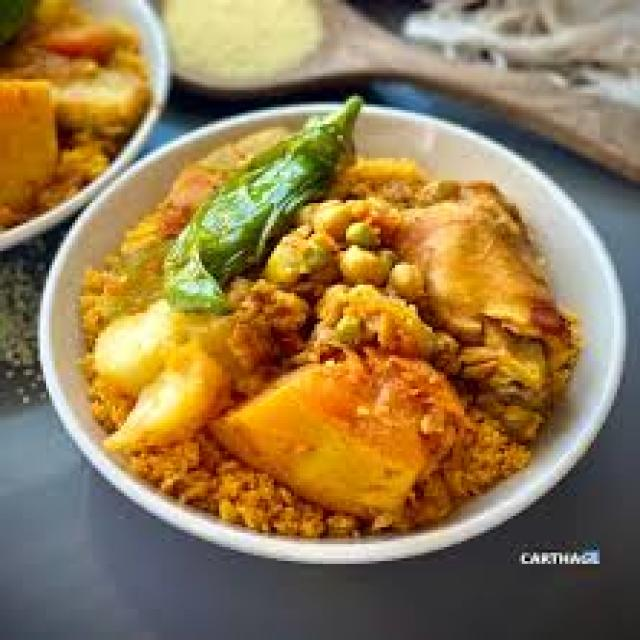Couscous: (81, 97, 579, 537)
